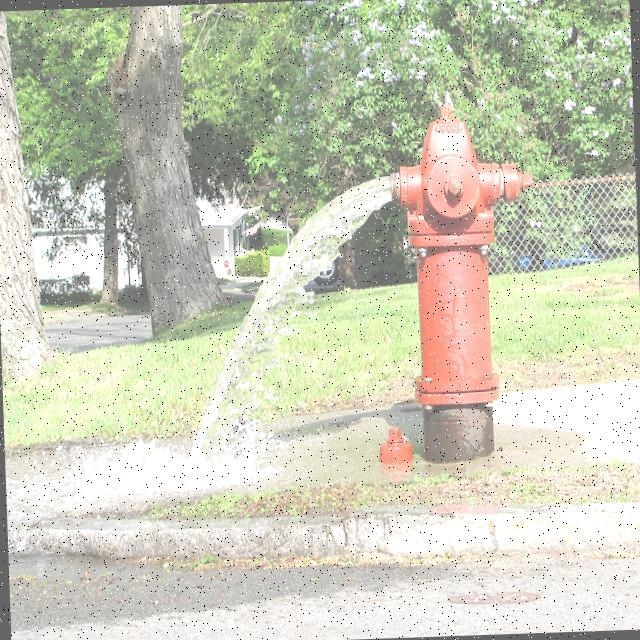fire_hydrant: (384, 87, 542, 463)
